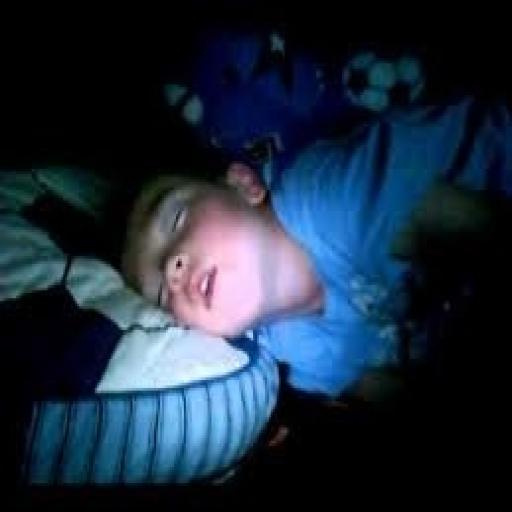sleeping: (117, 84, 510, 404)
